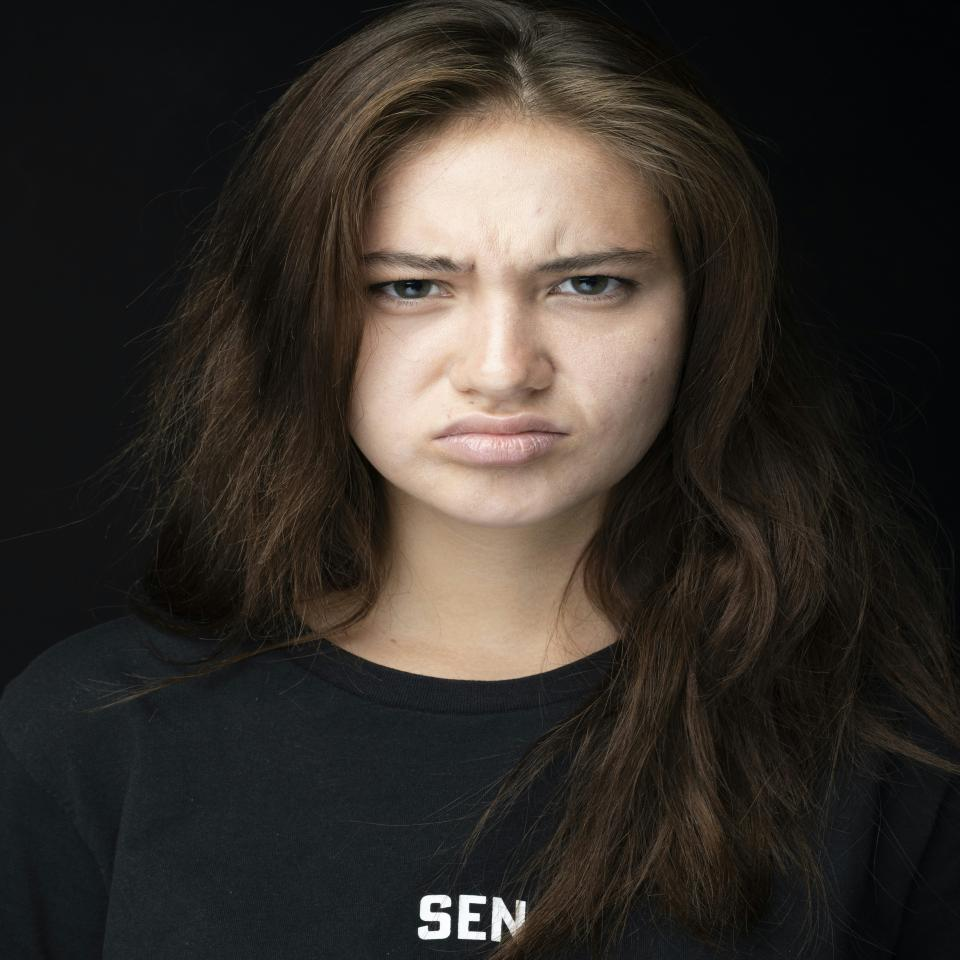Anger: (339, 122, 681, 524)
